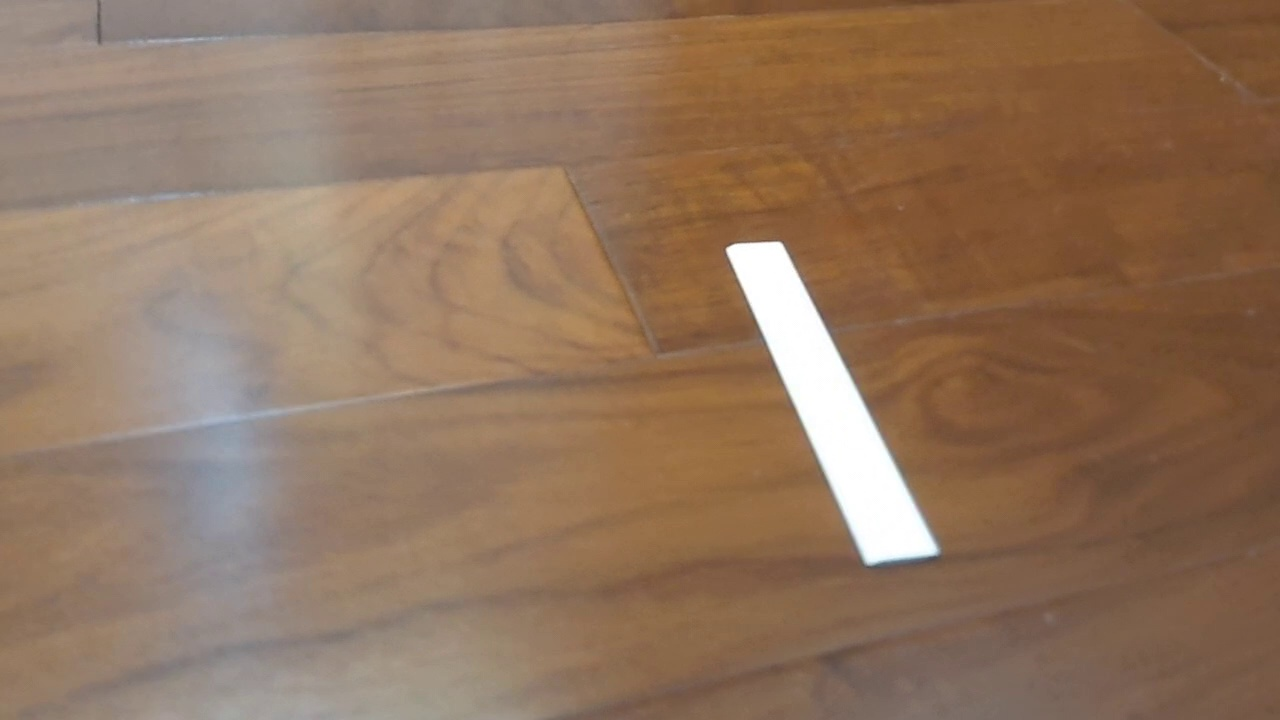ruler: (723, 240, 942, 571)
